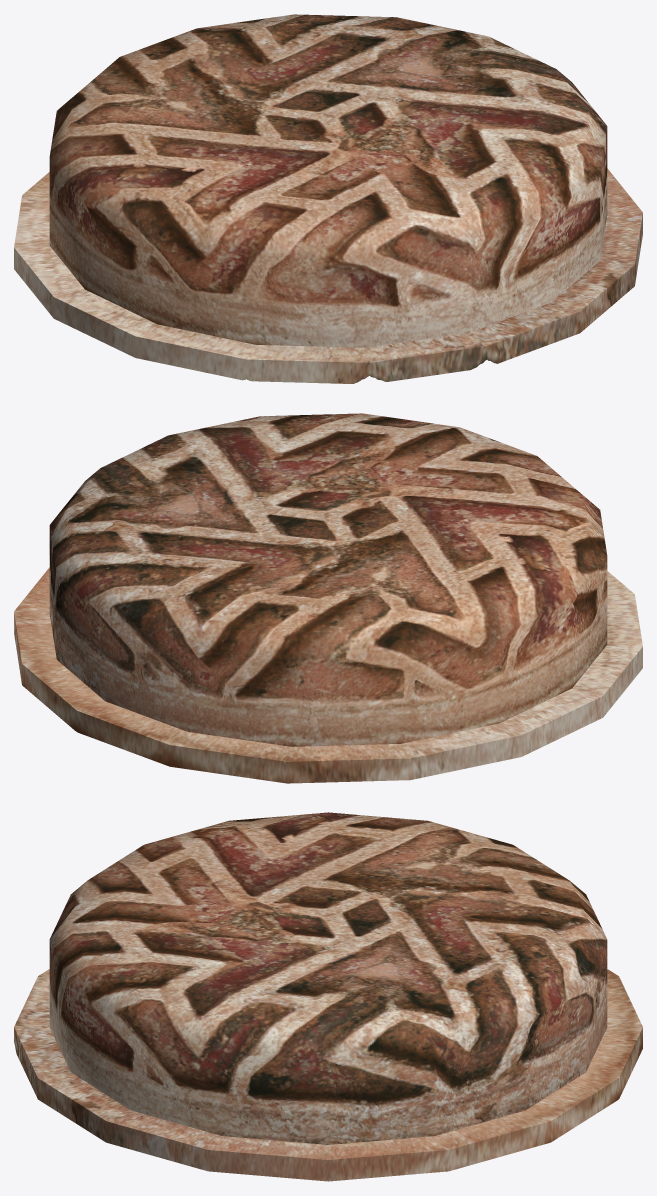
Rendered from bodenschalter.fbx.
3 views of the same model, one above another, from view 1: azimuth 30°, elevation 25°; view 2: azimuth 150°, elevation 25°; view 3: azimuth 270°, elevation 25° (orthographic).
Visible parts, largest first — view 1: button, base; view 2: button, base; view 3: button, base.
Part boxes in pixels (bbox=[...]): button: bbox=[49, 14, 607, 347]; base: bbox=[14, 168, 642, 383]; button: bbox=[49, 413, 607, 746]; base: bbox=[14, 567, 642, 783]; button: bbox=[49, 812, 607, 1144]; base: bbox=[14, 969, 642, 1181].
Size of the model in its own units: 200 by 47.07 by 200.
